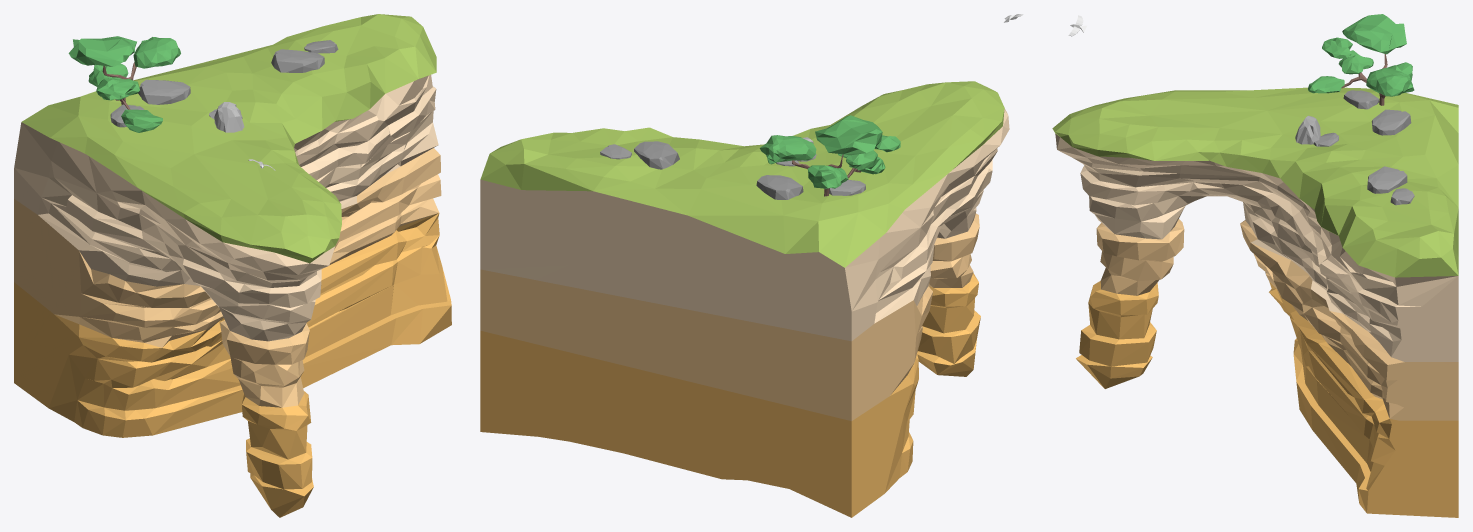
The model's file is territory.gltf.
3 views of the same model, side by side, from view 1: azimuth 30°, elevation 25°; view 2: azimuth 150°, elevation 25°; view 3: azimuth 270°, elevation 25° (orthographic). The views are drawn at different scales.
Parts seen in each view (by area): view 1: land_92008, land_92012, land_92002, land_92015, land_92005; view 2: land_92008, land_92012, land_92015, land_92002; view 3: land_92008, land_92012, land_92015, land_92002, land_92005, land_92003.
Part boxes in pixels (left/top/right/bottom): land_92008: left=14, top=14, right=451, bottom=517; land_92012: left=68, top=36, right=180, bottom=132; land_92002: left=138, top=79, right=190, bottom=104; land_92015: left=271, top=49, right=324, bottom=72; land_92005: left=214, top=102, right=244, bottom=132; land_92008: left=480, top=81, right=1009, bottom=517; land_92012: left=759, top=115, right=900, bottom=196; land_92015: left=634, top=141, right=679, bottom=169; land_92002: left=756, top=175, right=803, bottom=199; land_92008: left=1052, top=87, right=1458, bottom=517; land_92012: left=1308, top=14, right=1414, bottom=105; land_92015: left=1367, top=166, right=1407, bottom=193; land_92002: left=1371, top=109, right=1411, bottom=135; land_92005: left=1295, top=115, right=1320, bottom=144; land_92003: left=1343, top=90, right=1379, bottom=109.
Bounding box in the file's own units: 15 × 14 × 14.83.
1 material, 1 textured.
